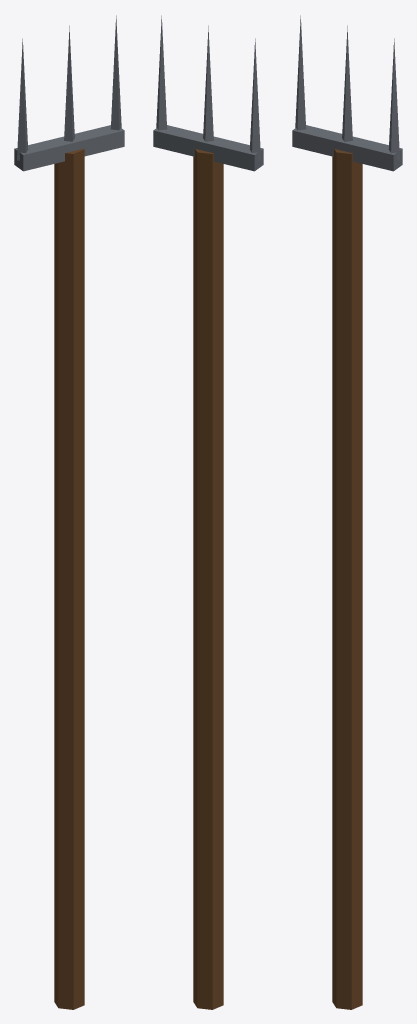
The model's file is gear_pitchfork.glb.
3 views of the same model, side by side, from view 1: azimuth 30°, elevation 25°; view 2: azimuth 150°, elevation 25°; view 3: azimuth 330°, elevation 25° (orthographic).
Parts seen in each view (by area): view 1: gear_pitchfork; view 2: gear_pitchfork; view 3: gear_pitchfork.
Part boxes in pixels (left/top/right/bottom): gear_pitchfork: left=14, top=15, right=124, bottom=1009; gear_pitchfork: left=153, top=15, right=263, bottom=1009; gear_pitchfork: left=292, top=15, right=402, bottom=1009.
Size of the model in its own units: 0.162 by 1.44 by 0.0406.
